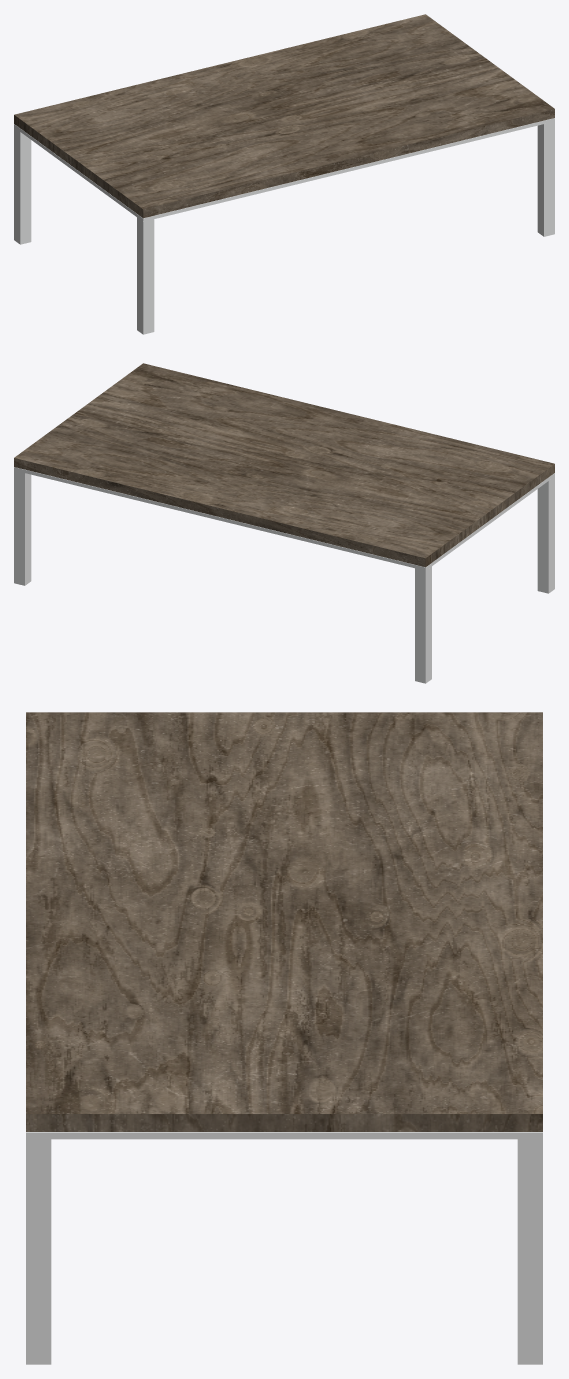
Rendered from PBR - Metallic Roughness.glb.
The picture shows the model from 3 angles, top to bottom: view 1: azimuth 30°, elevation 25°; view 2: azimuth 150°, elevation 25°; view 3: azimuth 270°, elevation 25°; orthographic projection. The views are drawn at different scales.
Visible parts, largest first — view 1: house_interior:Box032, house_interior:Box033; view 2: house_interior:Box032, house_interior:Box033; view 3: house_interior:Box032, house_interior:Box033.
Boxes of the visible parts, bbox=[...] form: house_interior:Box032: bbox=[14, 14, 554, 218]; house_interior:Box033: bbox=[14, 118, 554, 334]; house_interior:Box032: bbox=[14, 363, 554, 567]; house_interior:Box033: bbox=[14, 467, 554, 683]; house_interior:Box032: bbox=[26, 712, 542, 1131]; house_interior:Box033: bbox=[26, 1132, 542, 1364].
Bounding box in the file's own units: 4.59 × 1.34 × 2.5.
2 materials, 2 textured.
